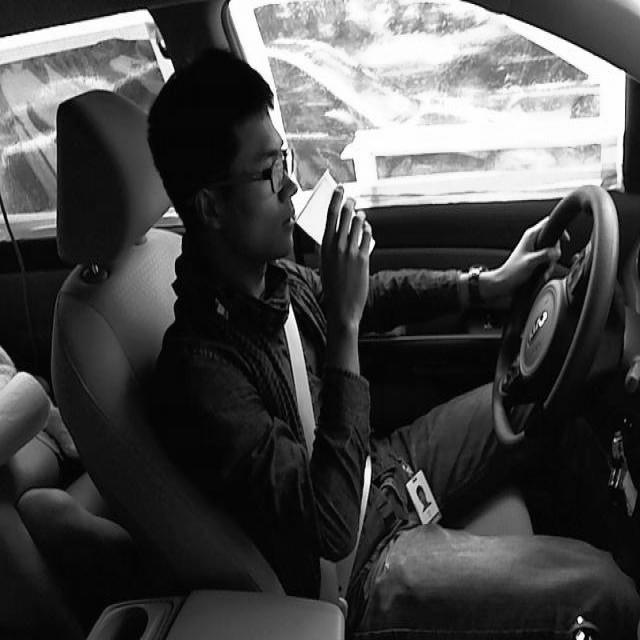Drinking: (139, 44, 388, 339)
